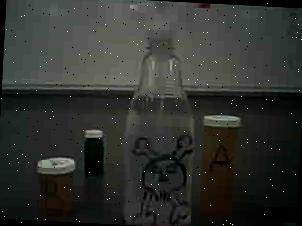Bottle A: (198, 114, 243, 221)
Bottle B: (32, 154, 78, 221)
Bottle C: (80, 127, 108, 178)
hazard: (111, 0, 211, 226)
